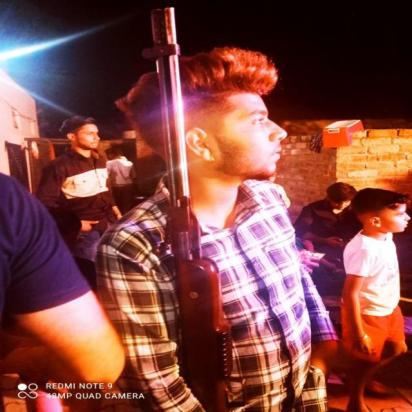Gun: (138, 5, 236, 412)
